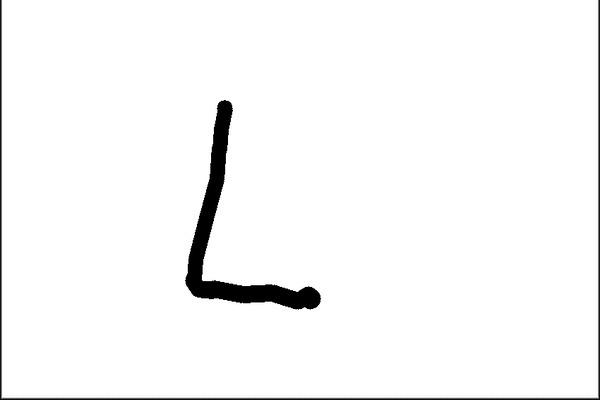L: (176, 93, 328, 318)
